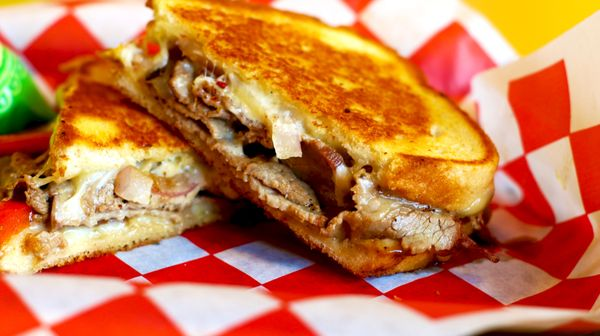soup: (23, 0, 500, 279)
